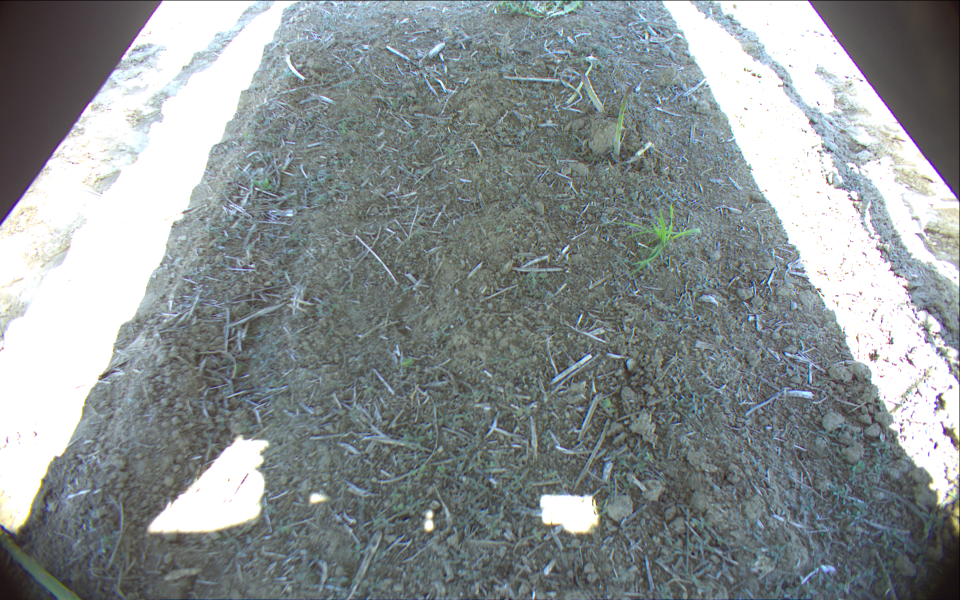aspa: (1, 525, 87, 598), (613, 82, 636, 158), (578, 66, 606, 111)
